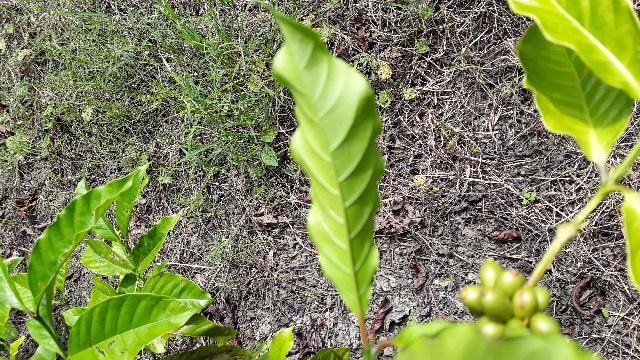healthy: (267, 7, 386, 322)
